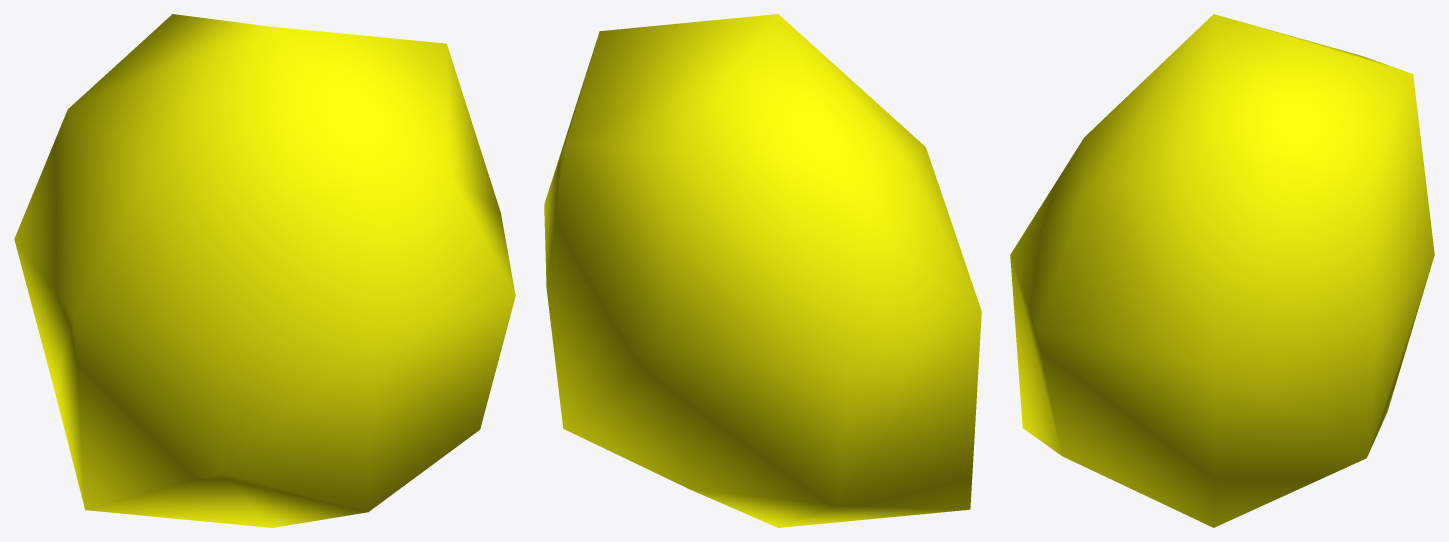
File: Props_Rocks_Rock_1_Rock1_Low.glb
3 views of the same model, side by side, from view 1: azimuth 30°, elevation 25°; view 2: azimuth 150°, elevation 25°; view 3: azimuth 270°, elevation 25° (orthographic). The views are drawn at different scales.
Parts seen in each view (by area): view 1: Rock1.High.006; view 2: Rock1.High.006; view 3: Rock1.High.006.
Boxes of the visible parts, <box> form: Rock1.High.006: <box>14,14,515,527</box>; Rock1.High.006: <box>544,14,981,527</box>; Rock1.High.006: <box>1010,14,1434,527</box>.
Bounding box in the file's own units: 1.37 × 1.54 × 1.18.
1 material, 1 textured.
